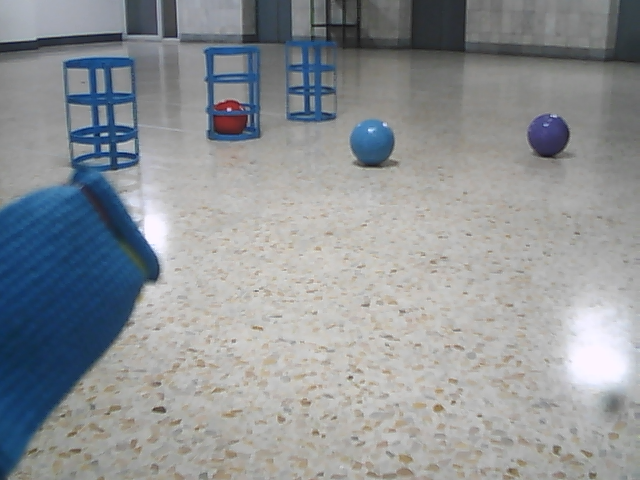Blue ball: (349, 118, 395, 165)
Cyro: (59, 54, 143, 174), (203, 45, 264, 143), (282, 38, 341, 123)
Purple ball: (526, 111, 570, 157)
Red ball: (214, 98, 250, 137)
